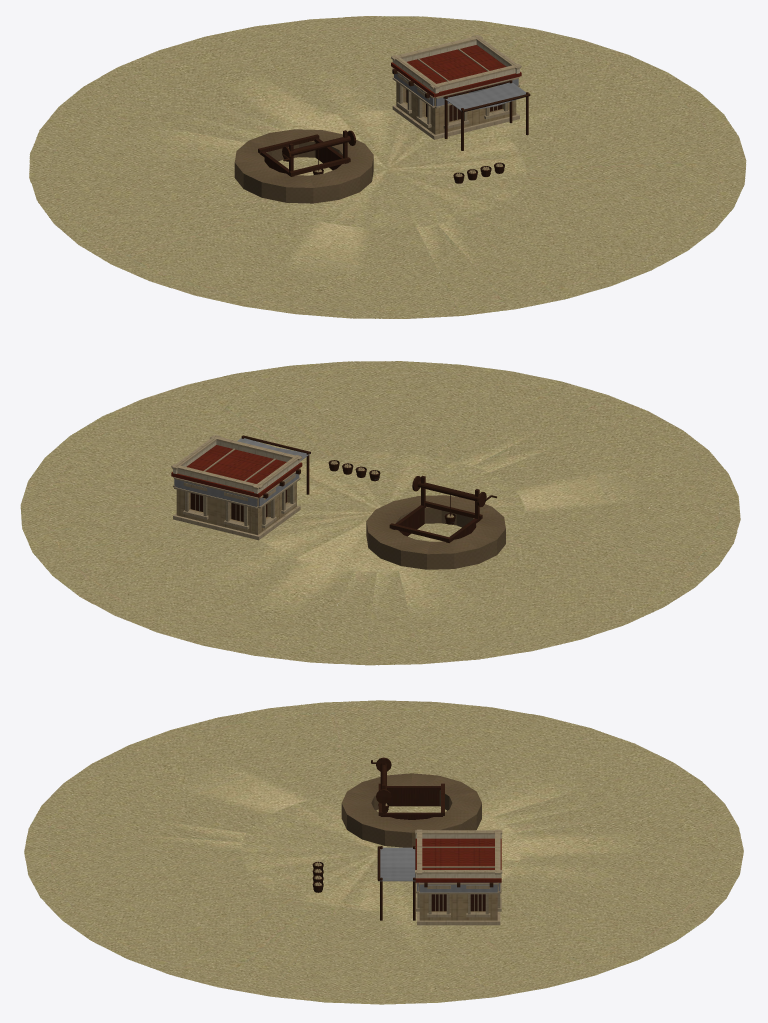
File: mine-bronze-2b770fcd.glb
3 views of the same model, one above another, from view 1: azimuth 30°, elevation 25°; view 2: azimuth 150°, elevation 25°; view 3: azimuth 270°, elevation 25° (orthographic).
Parts seen in each view (by area): view 1: LOD0; view 2: LOD0; view 3: LOD0.
Part boxes in pixels (box(x1,y1,x2,y2)): LOD0: box(29, 16, 746, 318); LOD0: box(20, 361, 740, 665); LOD0: box(24, 700, 743, 1004).
Size of what is drawn, in the model's own units: 4.74 by 0.374 by 4.74.
3 materials, 3 textured.
